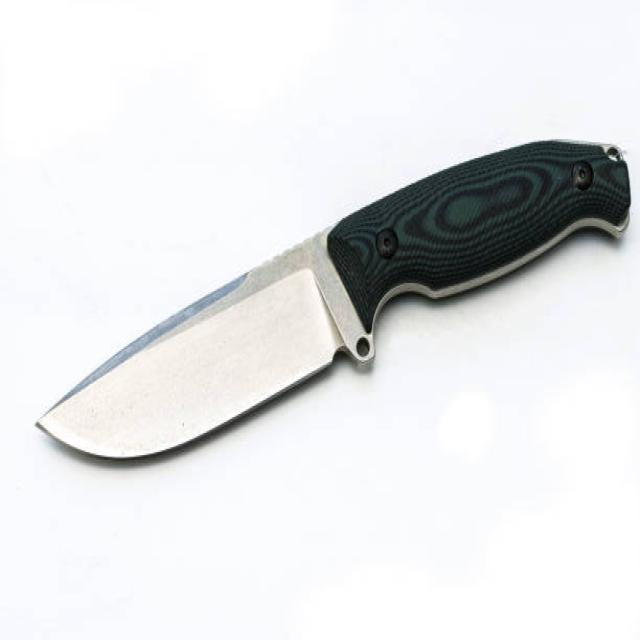knife: (34, 127, 640, 473)
